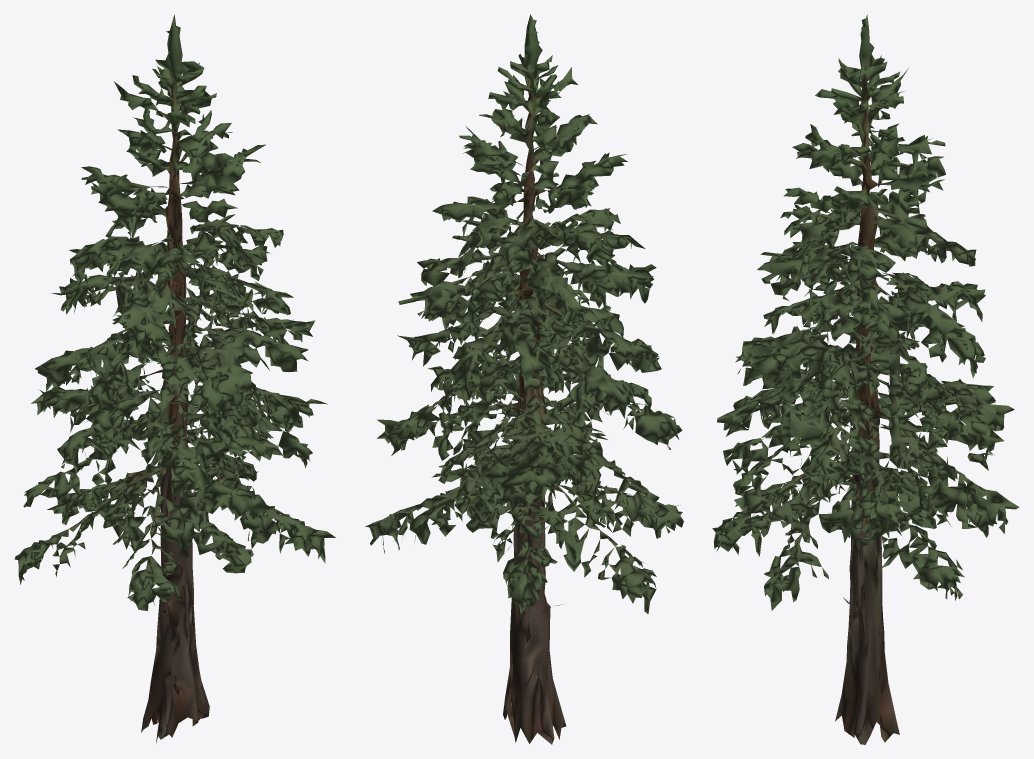
Rendered from cedar_a.1.glb.
The picture shows the model from 3 angles, left to right: view 1: azimuth 30°, elevation 25°; view 2: azimuth 150°, elevation 25°; view 3: azimuth 270°, elevation 25°; orthographic projection.
Visible parts, largest first — view 1: lod; view 2: lod; view 3: lod.
Part boxes in pixels (x1,y1,x2,y2): lod: (14, 14, 335, 743); lod: (365, 14, 683, 744); lod: (712, 14, 1019, 744).
Bounding box in the file's own units: 0.3993 × 0.984 × 0.3764.
